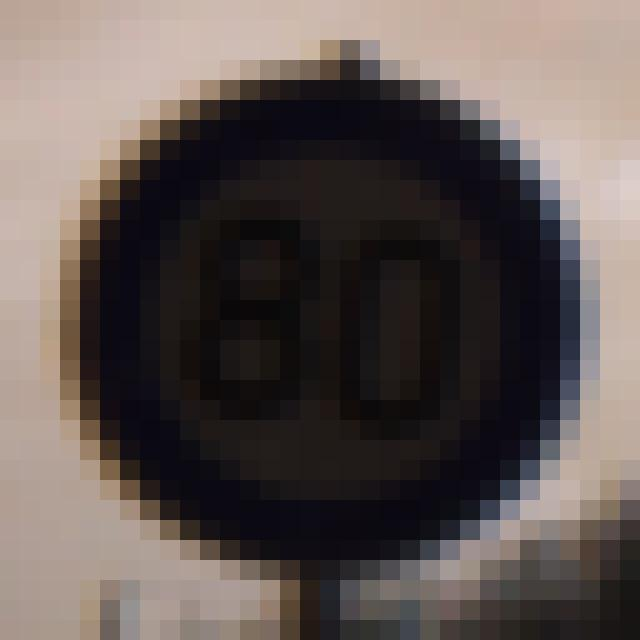SPEED-LIMIT-80: (64, 69, 576, 556)
